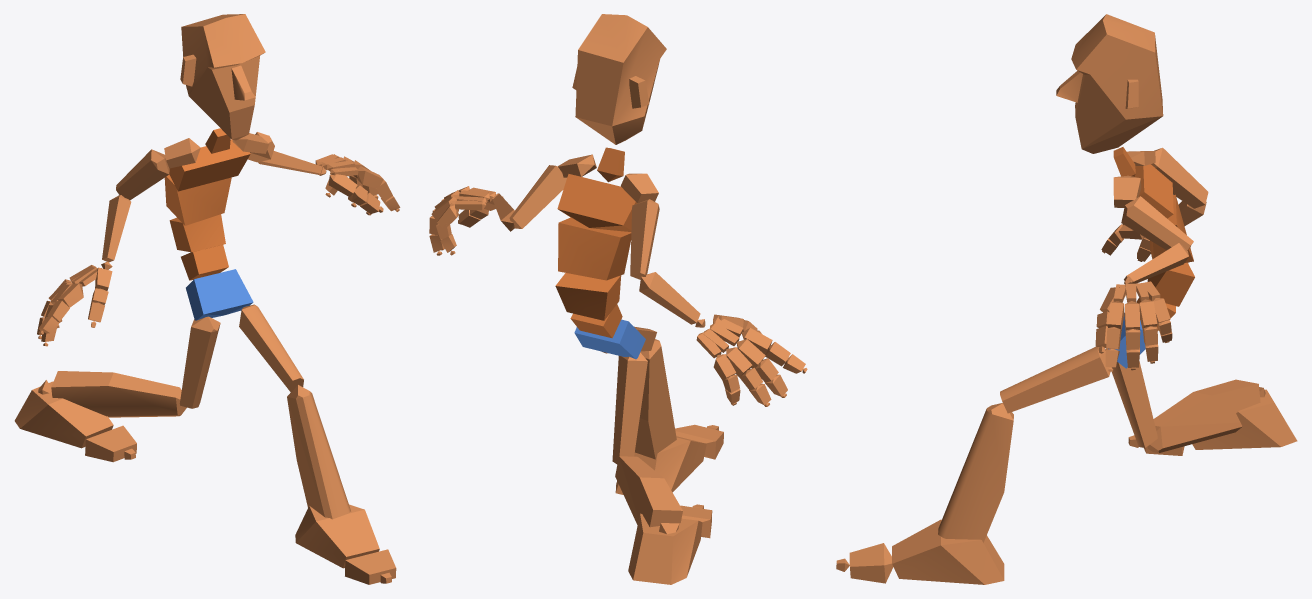
3 renders of one model, left to right at view 1: azimuth 30°, elevation 25°; view 2: azimuth 150°, elevation 25°; view 3: azimuth 270°, elevation 25°, orthographic. The views are drawn at different scales.
Parts seen in each view (by area): view 1: BOPED_Head, BOPED_R_leg, BOPED_L_leg, BOPED_R_foot, BOPED_R_foot01, Bone01, BOPED_R_legup, Bone04, BOPED_L_legup, Bone05, Bone03, BOPED_R_arm_upper (+7 smaller); view 2: BOPED_Head, BOPED_R_foot, Bone04, Bone05, BOPED_L_leg, BOPED_R_leg, BOPED_R_legup, Bone03, BOPED_R_foot01, BOPED_R_arm_upper, BOPED_L_arm_upper, Bone01 (+7 smaller); view 3: BOPED_Head, BOPED_L_leg, BOPED_R_foot01, BOPED_R_leg, BOPED_L_legup, BOPED_R_foot, BOPED_R_legup, BOPED_L_arm_upper, BOPED_R_arm_upper, BOPED_R_foot_toe04, Bone05, Bone03 (+2 smaller).
Boxes of the visible parts, bbox=[...] form: BOPED_Head: bbox=[180, 14, 265, 140]; BOPED_R_leg: bbox=[51, 371, 186, 417]; BOPED_L_leg: bbox=[287, 385, 350, 519]; BOPED_R_foot: bbox=[14, 381, 113, 448]; BOPED_R_foot01: bbox=[295, 504, 379, 568]; Bone01: bbox=[186, 269, 253, 320]; BOPED_R_legup: bbox=[179, 316, 220, 408]; Bone04: bbox=[164, 174, 231, 225]; BOPED_L_legup: bbox=[239, 304, 303, 392]; Bone05: bbox=[169, 139, 250, 191]; Bone03: bbox=[169, 214, 225, 252]; BOPED_R_arm_upper: bbox=[116, 149, 169, 200]; BOPED_Head: bbox=[572, 14, 666, 144]; BOPED_R_foot: bbox=[628, 513, 702, 584]; Bone04: bbox=[558, 217, 631, 280]; Bone05: bbox=[557, 174, 637, 231]; BOPED_L_leg: bbox=[635, 339, 676, 459]; BOPED_R_leg: bbox=[615, 456, 682, 527]; BOPED_R_legup: bbox=[612, 352, 647, 464]; Bone03: bbox=[555, 273, 621, 320]; BOPED_R_foot01: bbox=[615, 436, 706, 494]; BOPED_R_arm_upper: bbox=[630, 199, 659, 279]; BOPED_L_arm_upper: bbox=[509, 165, 566, 228]; Bone01: bbox=[574, 319, 645, 359]; BOPED_Head: bbox=[1056, 14, 1163, 153]; BOPED_L_leg: bbox=[938, 403, 1013, 542]; BOPED_R_foot01: bbox=[892, 519, 1004, 584]; BOPED_R_leg: bbox=[1147, 379, 1260, 452]; BOPED_L_legup: bbox=[1000, 346, 1111, 413]; BOPED_R_foot: bbox=[1192, 389, 1297, 449]; BOPED_R_legup: bbox=[1105, 348, 1157, 447]; BOPED_L_arm_upper: bbox=[1121, 196, 1193, 250]; BOPED_R_arm_upper: bbox=[1151, 147, 1208, 208]; BOPED_R_foot_toe04: bbox=[849, 543, 893, 583]; Bone05: bbox=[1134, 164, 1173, 218]; Bone03: bbox=[1147, 262, 1194, 306].
Size of the model in its own units: 130 by 172 by 135.
